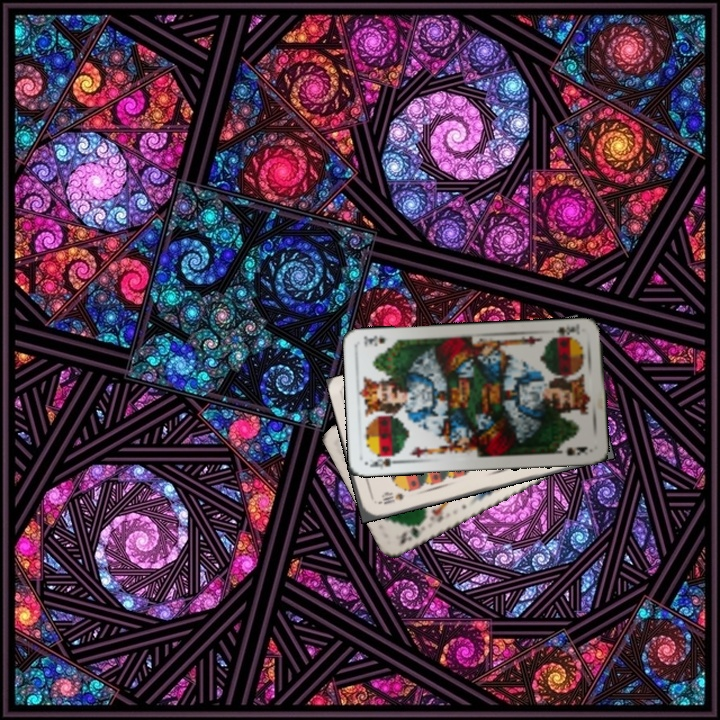GK: (396, 517, 427, 547)
S10: (374, 489, 407, 507)
SK: (366, 451, 404, 471), (546, 322, 579, 342)
